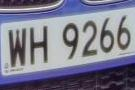2: (79, 16, 100, 62)
6: (98, 15, 117, 58), (114, 14, 133, 56)
9: (60, 16, 82, 67)
H: (27, 21, 52, 70)
W: (5, 25, 29, 71)
